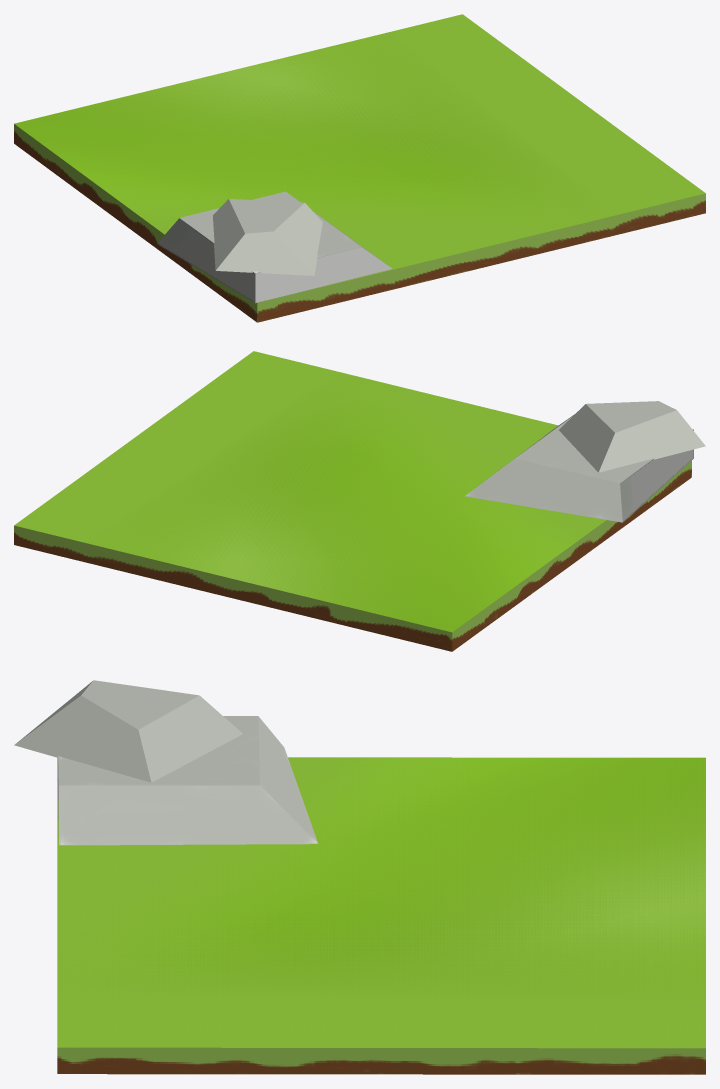
Rendered from Terrain.glb.
3 views of the same model, one above another, from view 1: azimuth 30°, elevation 25°; view 2: azimuth 150°, elevation 25°; view 3: azimuth 270°, elevation 25° (orthographic). The views are drawn at different scales.
Visible parts, largest first — view 1: cuboid (×3); view 2: cuboid (×3); view 3: cuboid (×3).
Part boxes in pixels (bbox=[...]): cuboid (×3): bbox=[14, 14, 705, 322]; cuboid (×3): bbox=[14, 351, 705, 651]; cuboid (×3): bbox=[14, 680, 705, 1074].
Size of the model in its own units: 28.22 by 4.44 by 26.67.
3 materials, 3 textured.
